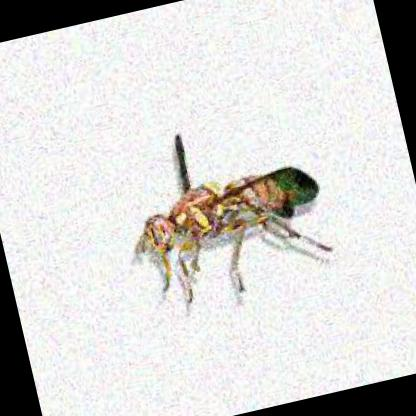fruit fly: (136, 135, 331, 275)
